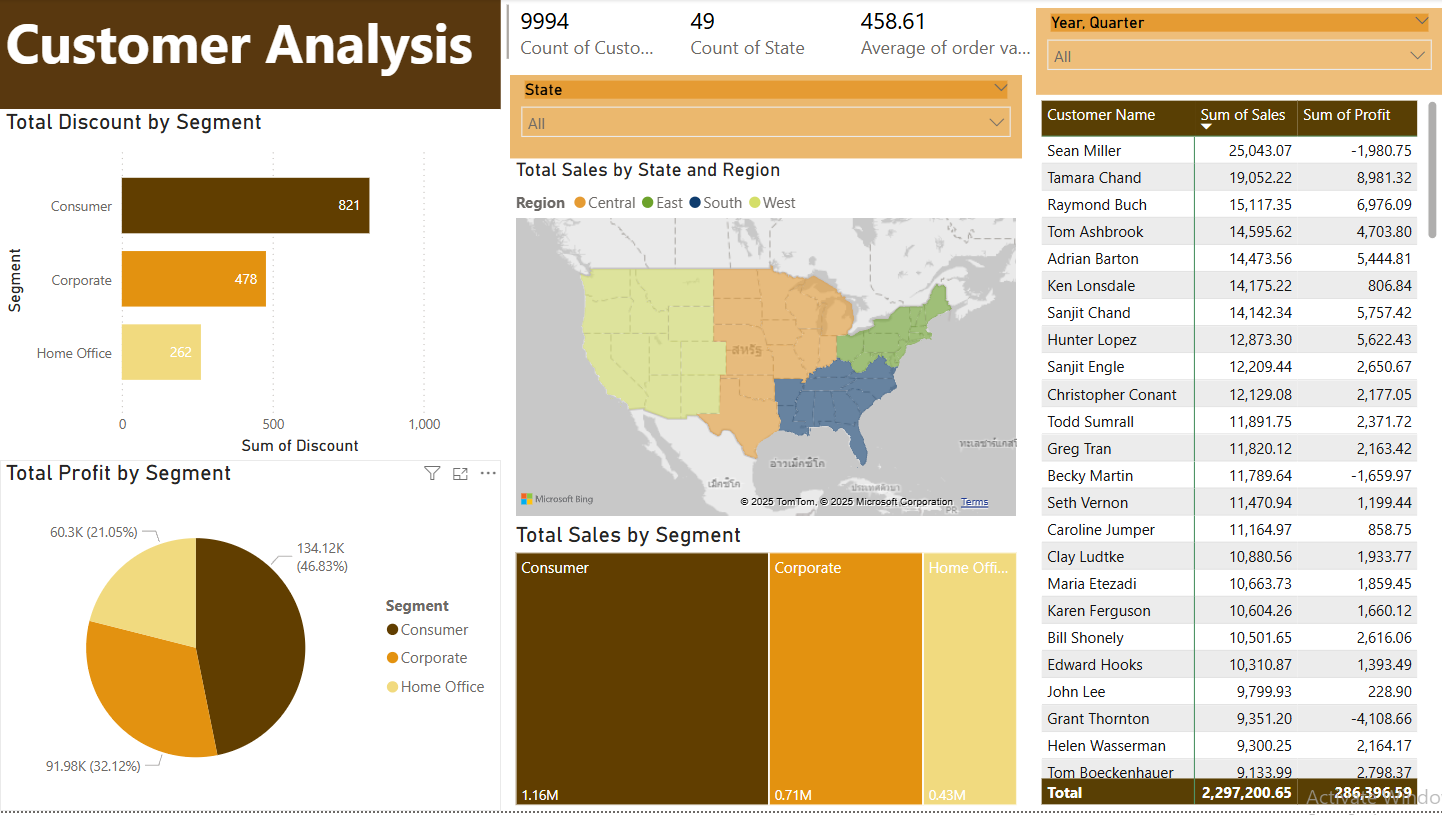

What the dashboard file says about the page in this screenshot:
{"tool":"powerbi","page":{"name":"Customer Analysis","canvas":[1280,720],"ordinal":3},"visuals":[{"type":"textbox","box":[0,0,444.1,97.9],"z":0},{"type":"pivotTable","fields":{"Rows":["DATASuperstore1.Customer Name"],"Values":["Sum(DATASuperstore1.Sales)","Sum(DATASuperstore1.Profit)"]},"box":[919,85.4,361,634.3],"z":1000},{"type":"treemap","title":"Total Sales by Segment","fields":{"Group":["DATASuperstore1.Segment"],"Values":["Sum(DATASuperstore1.Sales)"]},"box":[452.1,463.5,454.4,256.2],"z":2000},{"type":"pieChart","title":"Total Profit by Segment","fields":{"Category":["DATASuperstore1.Segment"],"Y":["Sum(DATASuperstore1.Profit)"]},"box":[0,408.8,444.1,310.9],"z":3000},{"type":"barChart","title":"Total Discount by Segment","fields":{"Category":["DATASuperstore1.Segment"],"Y":["Sum(DATASuperstore1.Discount)"]},"box":[0,97.9,444.1,310.9],"z":4000},{"type":"multiRowCard","fields":{"Values":["DATASuperstore1.Customer ID","DATASuperstore1.State","DATASuperstore1.Average of order value"]},"box":[444.1,0,474.9,67.2],"z":5000},{"type":"filledMap","title":"Total Sales by State and Region","fields":{"Category":["DATASuperstore1.State","DATASuperstore1.Country"],"Series":["DATASuperstore1.Region"]},"box":[452.1,141.2,454.4,322.3],"z":6000},{"type":"slicer","fields":{"Values":["DATASuperstore1.Order Date.Variation.Date Hierarchy.Year","DATASuperstore1.Order Date.Variation.Date Hierarchy.Quarter"]},"box":[919,8,361,77.4],"z":7000},{"type":"slicer","fields":{"Values":["DATASuperstore1.State"]},"box":[452.1,67.2,454.4,74],"z":8000}]}

Visuals, with their boxes in screenshot pixels (x1, y1, x2, y2), scaled from the page's 1280x720 canvas onto the 1442x815 screenshot:
textbox: l=0, t=0, r=500, b=111
pivotTable - DATASuperstore1.Customer Name x Sum(DATASuperstore1.Sales): l=1035, t=97, r=1441, b=814
"Total Sales by Segment" treemap: l=509, t=525, r=1021, b=814
"Total Profit by Segment" pieChart: l=0, t=463, r=500, b=814
"Total Discount by Segment" barChart: l=0, t=111, r=500, b=463
multiRowCard - DATASuperstore1.Customer ID x DATASuperstore1.State: l=500, t=0, r=1035, b=76
"Total Sales by State and Region" filledMap: l=509, t=160, r=1021, b=525
slicer - DATASuperstore1.Order Date.Variation.Date Hierarchy.Year x DATASuperstore1.Order Date.Variation.Date Hierarchy.Quarter: l=1035, t=9, r=1441, b=97
slicer - DATASuperstore1.State: l=509, t=76, r=1021, b=160
